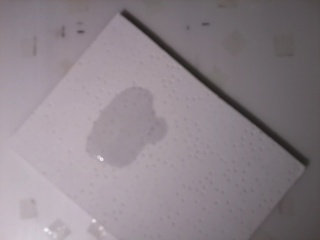Water_detected: (103, 103, 162, 163)
